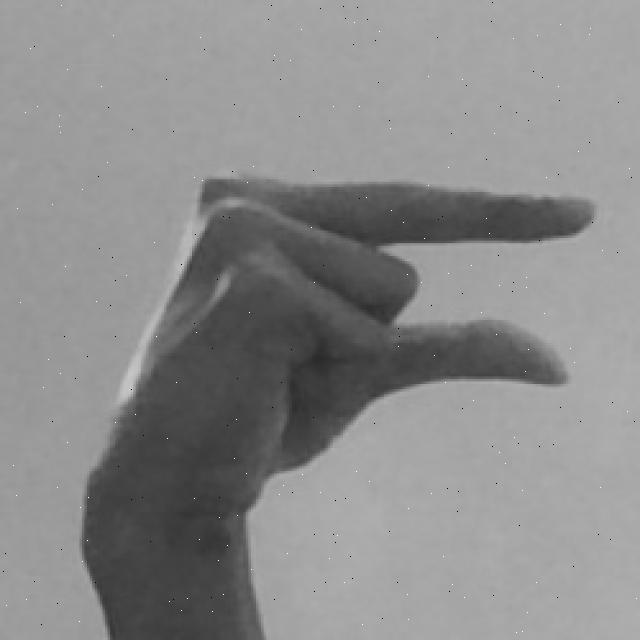G: (78, 165, 597, 640)
